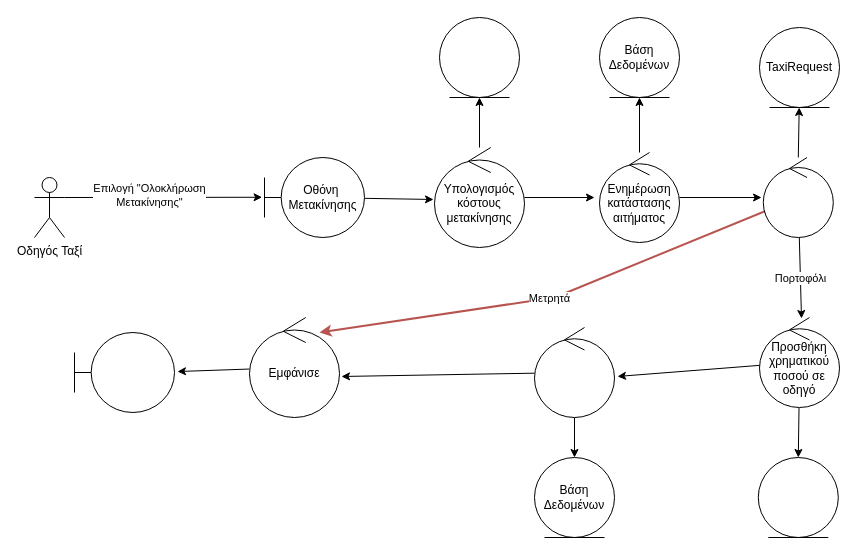
Image size: 857x555. Some labels were removed from this diagram. Here are the shapes that lost their labels. From the top down, the centre of each, then its label:
At pixel 479 57: "Timer".
At pixel 797 197: "Έλεγχος τρόπου πληρωμής".
At pixel 124 372: "Αρχική οθόνη".
At pixel 574 372: "Ενημέρωση Πορτοφολιού Οδηγού Ταξί".
At pixel 797 497: "Wallet".
